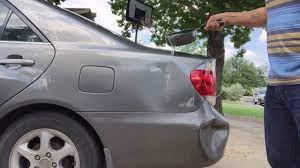doorouter-dent: (0, 40, 55, 127)
quaterpanel-dent: (56, 50, 189, 144)
rear-bumper-dent: (185, 60, 233, 167)
